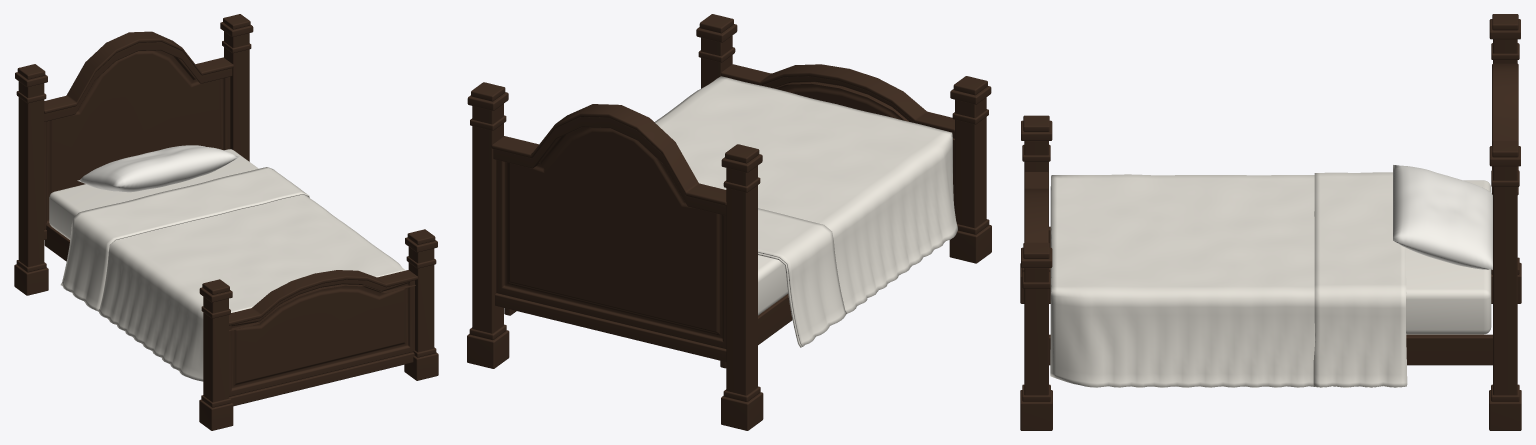
File: Bed_Roblox.fbx
3 views of the same model, side by side, from view 1: azimuth 30°, elevation 25°; view 2: azimuth 150°, elevation 25°; view 3: azimuth 270°, elevation 25° (orthographic). The views are drawn at different scales.
Parts seen in each view (by area): view 1: Bed_Frame, Bed_Blanket, Bed_Pillow, Bed_Mattress; view 2: Bed_Frame, Bed_Blanket, Bed_Mattress; view 3: Bed_Blanket, Bed_Frame, Bed_Pillow, Bed_Mattress.
Part boxes in pixels (bbox=[...]): Bed_Frame: bbox=[14, 14, 438, 430]; Bed_Blanket: bbox=[60, 167, 405, 381]; Bed_Pillow: bbox=[77, 145, 239, 192]; Bed_Mattress: bbox=[49, 149, 258, 239]; Bed_Frame: bbox=[467, 14, 991, 430]; Bed_Blanket: bbox=[654, 76, 957, 347]; Bed_Mattress: bbox=[758, 255, 788, 315]; Bed_Blanket: bbox=[1050, 172, 1407, 387]; Bed_Frame: bbox=[1020, 14, 1521, 430]; Bed_Pillow: bbox=[1393, 165, 1492, 269]; Bed_Mattress: bbox=[1050, 180, 1491, 334].
Bounding box in the file's own units: 1.49 × 1.42 × 2.23.
